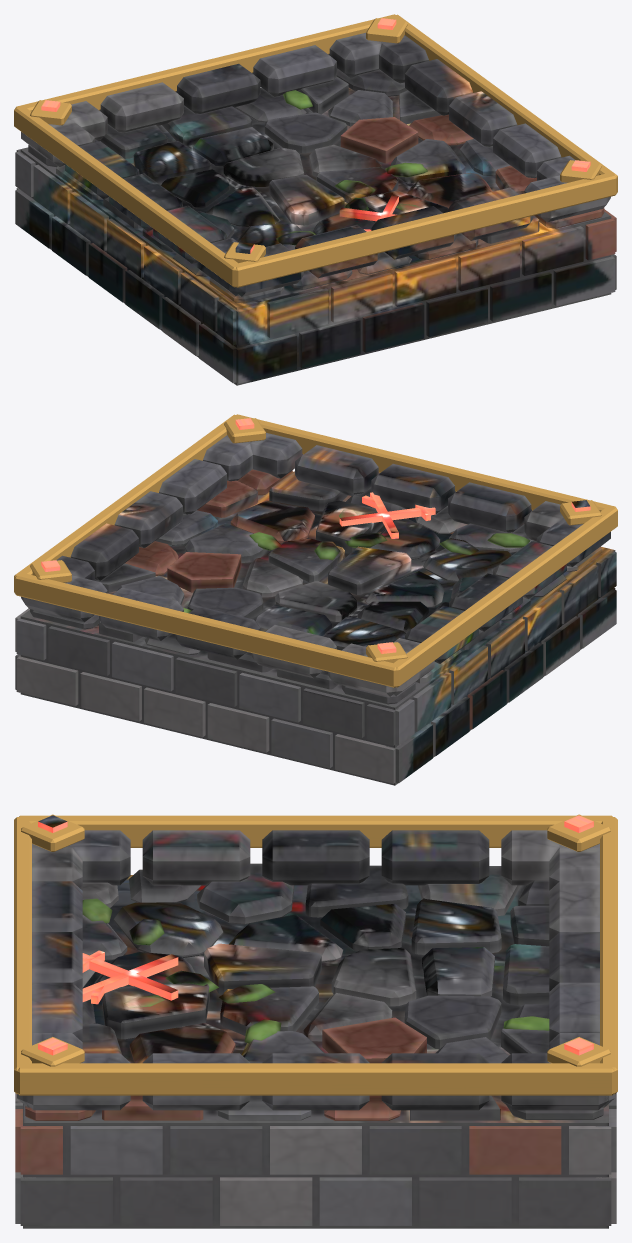
File: war_rocket_plate.glb
The picture shows the model from 3 angles, top to bottom: view 1: azimuth 30°, elevation 25°; view 2: azimuth 150°, elevation 25°; view 3: azimuth 270°, elevation 25°; orthographic projection. The views are drawn at different scales.
Visible parts, largest first — view 1: war_rocket_plate; view 2: war_rocket_plate; view 3: war_rocket_plate.
Part boxes in pixels (box(x1,y1,x2,y2)): war_rocket_plate: box(14, 14, 617, 385); war_rocket_plate: box(14, 414, 617, 785); war_rocket_plate: box(14, 814, 617, 1228).
Size of the model in its own units: 2.02 by 0.635 by 2.02.
2 materials, 1 textured.
